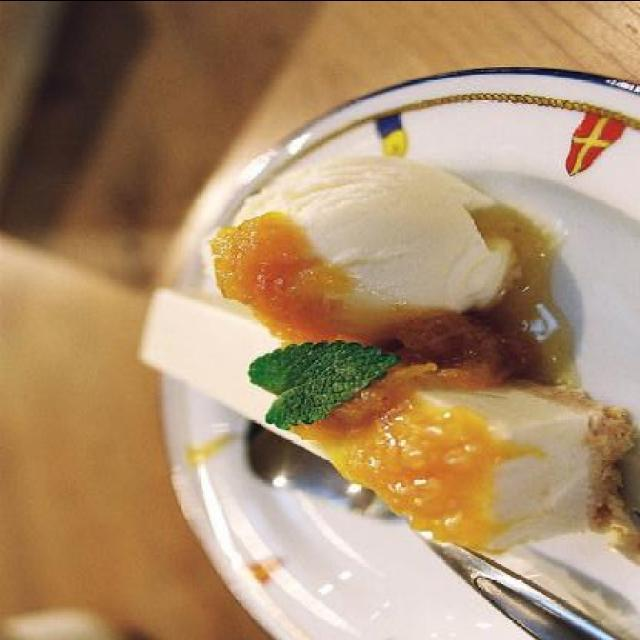Cookie: (221, 148, 530, 314)
Rare cheese cake: (125, 292, 618, 570)
